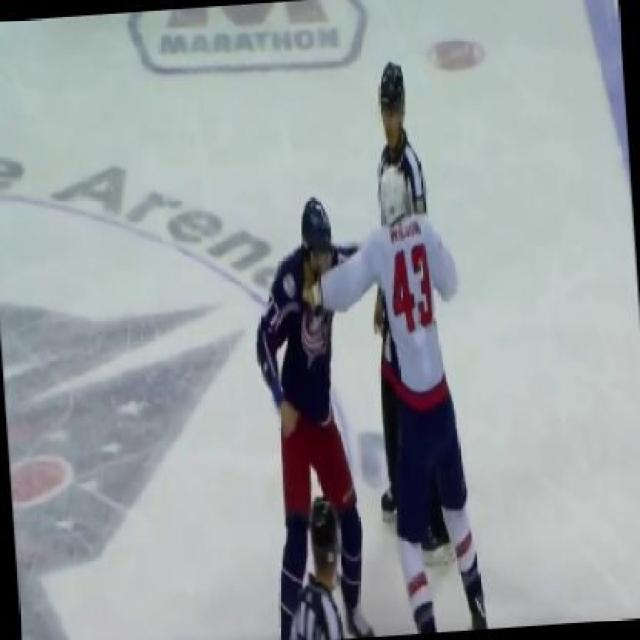fight: (222, 172, 504, 638)
